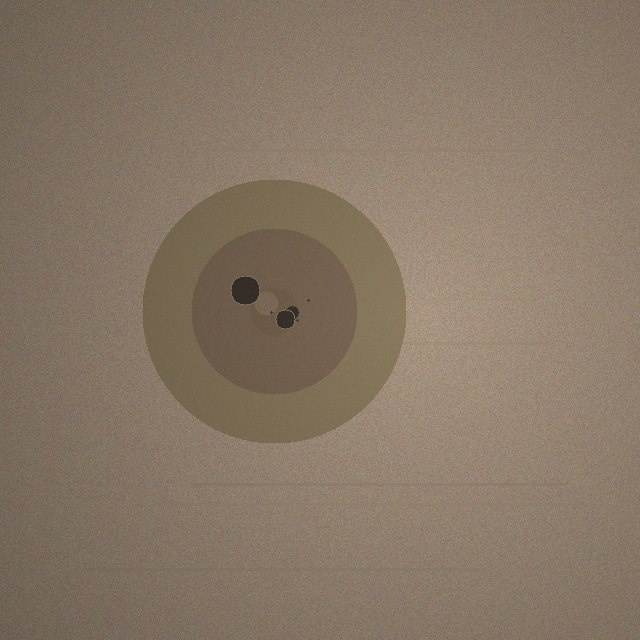shrinkage: (142, 179, 406, 443)
